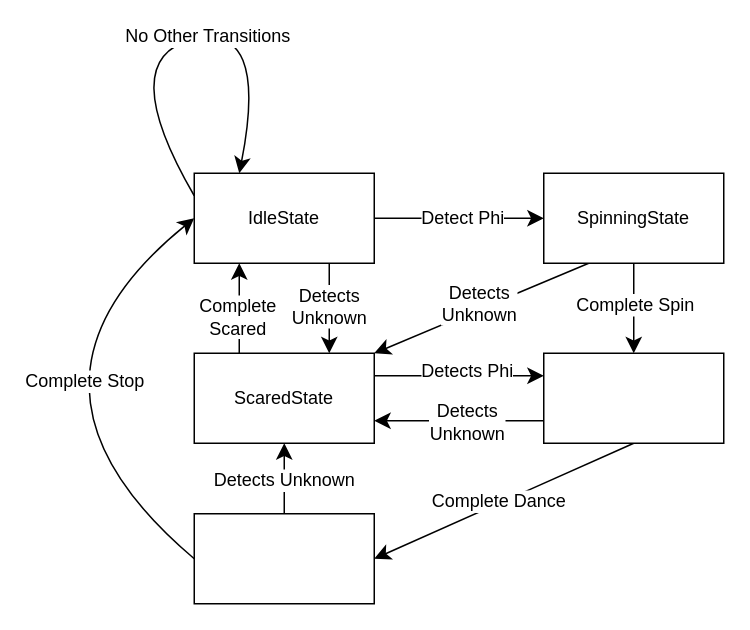
Some shapes in this 750 by 630 pixel diagram are drawn without their labels. Here are the shapes that lost their labels. From the top down, the box of each, then its label:
(542, 352, 724, 443): DancingState
(193, 512, 374, 604): Stopping State
